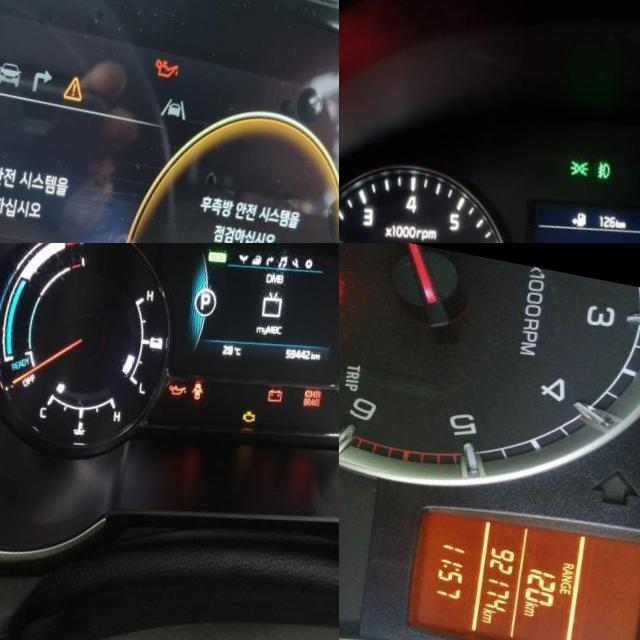Central Warning lamp: (67, 58, 90, 89)
FrontFogLight: (604, 146, 621, 167)
LaneCenteringOff: (165, 78, 193, 103)
SideLamp: (576, 143, 600, 166)
